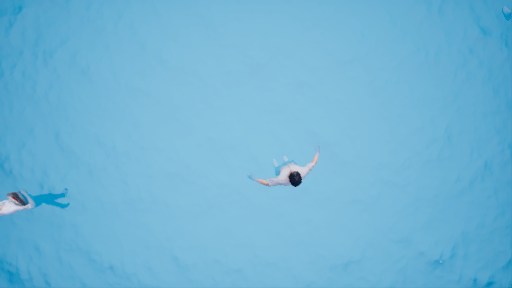person: (247, 141, 322, 193), (1, 181, 76, 222)
